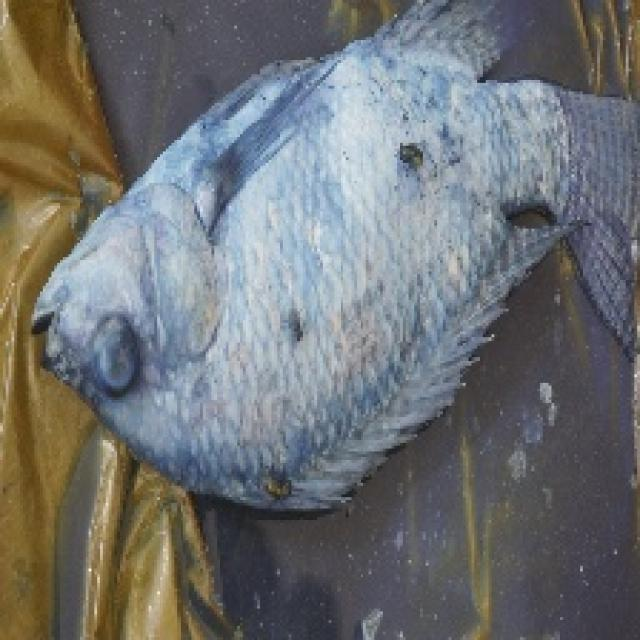Non-Fresh: (20, 166, 450, 482)
